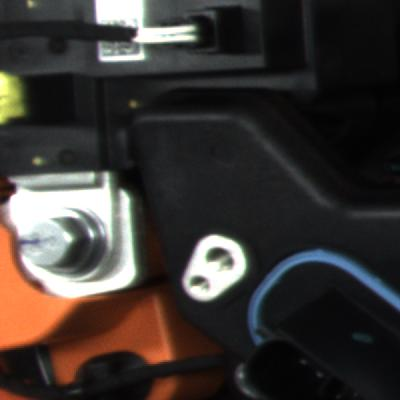nut_b: (7, 198, 118, 287)
